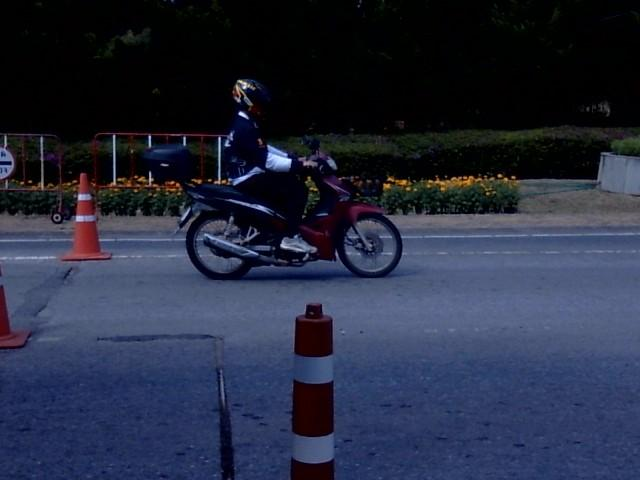helmet: (231, 76, 271, 115)
motor: (142, 139, 401, 278)
person: (224, 79, 316, 252)
